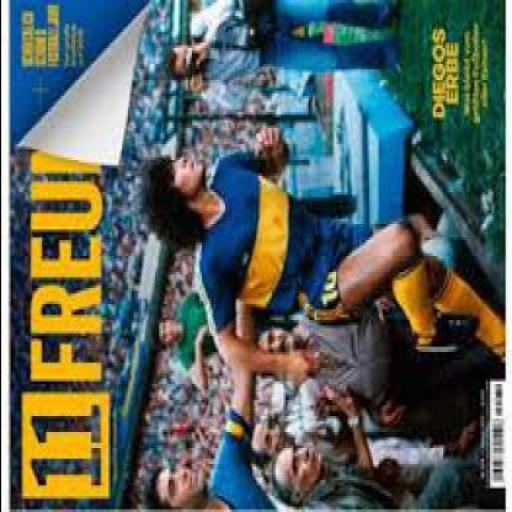paper: (5, 2, 501, 511)
